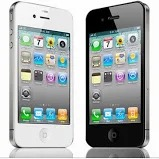iphone: (6, 1, 75, 151), (82, 1, 151, 151)
iphone5: (82, 1, 151, 151), (5, 1, 74, 151)
